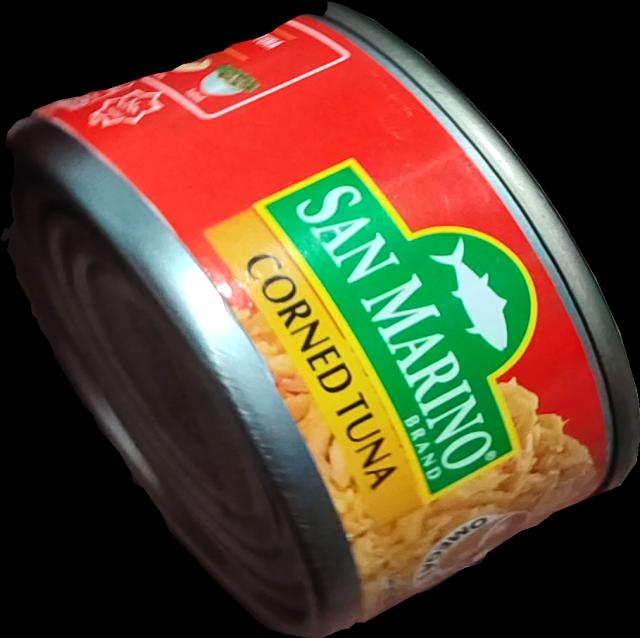san marino: (0, 1, 640, 638)
